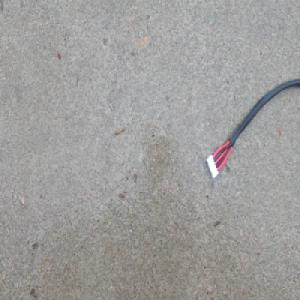Wire: (204, 80, 300, 181)
